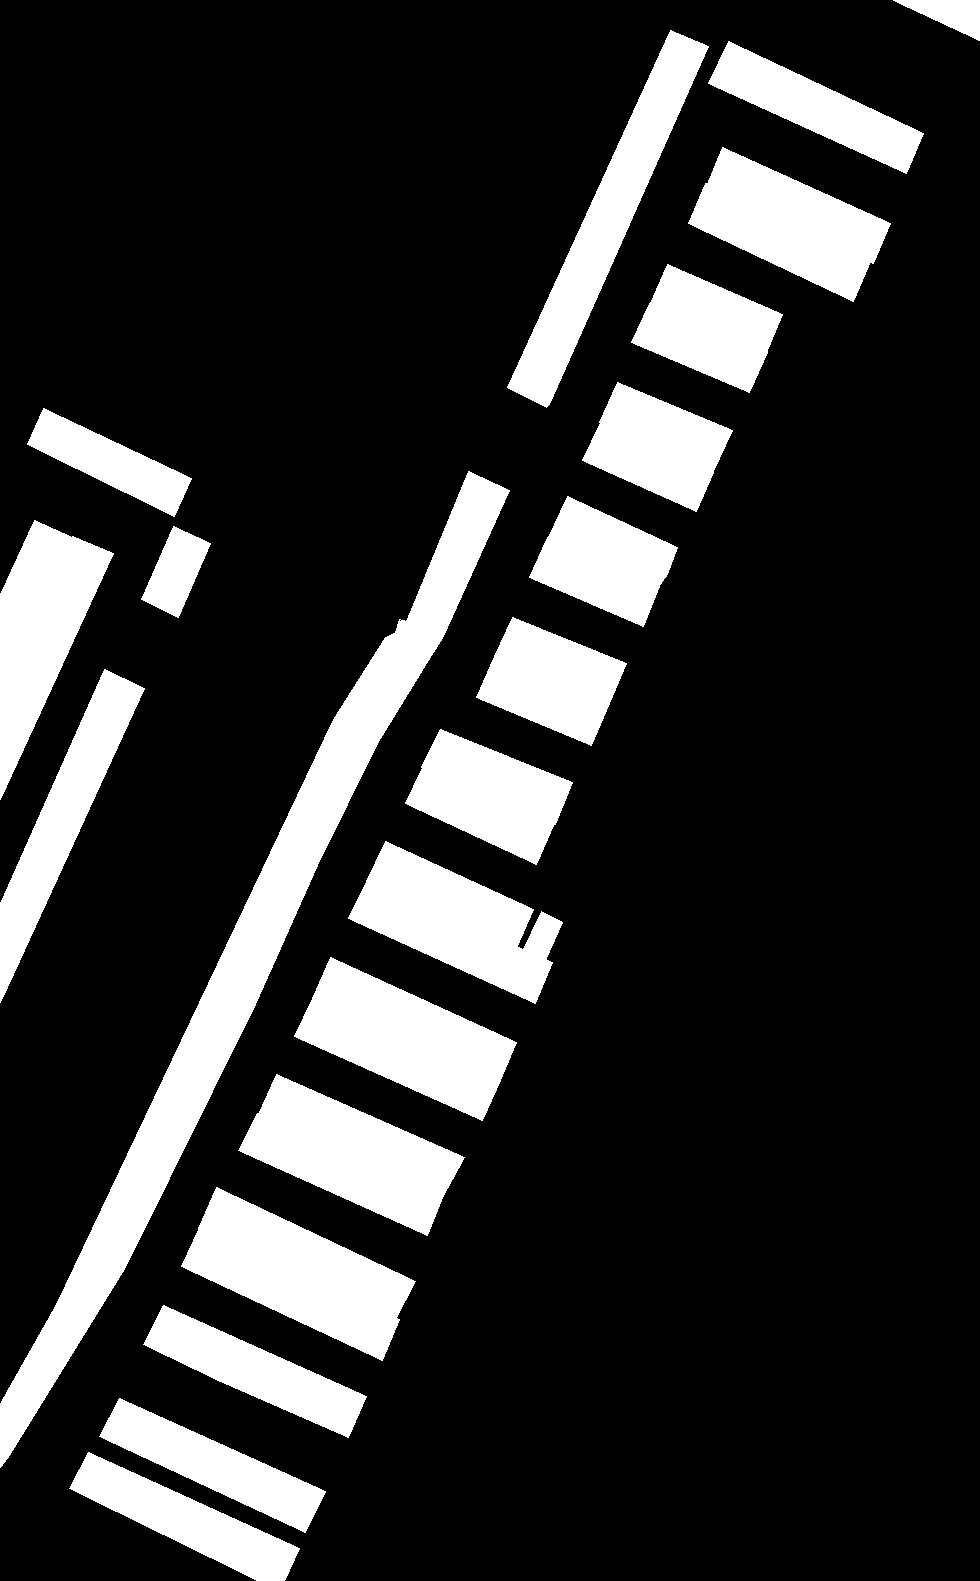parkingspot: (0, 471, 509, 1467), (507, 30, 708, 407), (0, 669, 145, 1002), (99, 1398, 325, 1532), (0, 536, 113, 800), (69, 1452, 299, 1581), (143, 1305, 366, 1436), (181, 1228, 399, 1360), (708, 41, 924, 173), (198, 1187, 415, 1317), (259, 1074, 464, 1199), (294, 996, 500, 1120), (312, 957, 516, 1082), (348, 880, 552, 1003), (238, 1113, 443, 1235), (688, 183, 870, 302), (706, 147, 890, 263), (27, 408, 191, 516), (366, 841, 533, 947), (405, 767, 554, 864), (421, 730, 572, 824), (0, 519, 75, 702), (631, 302, 767, 392), (546, 496, 677, 588), (600, 382, 732, 473), (649, 264, 782, 355), (476, 656, 609, 745), (581, 422, 714, 510), (530, 538, 659, 626), (495, 617, 625, 704), (141, 526, 210, 617), (893, 0, 980, 40), (522, 911, 562, 960)
